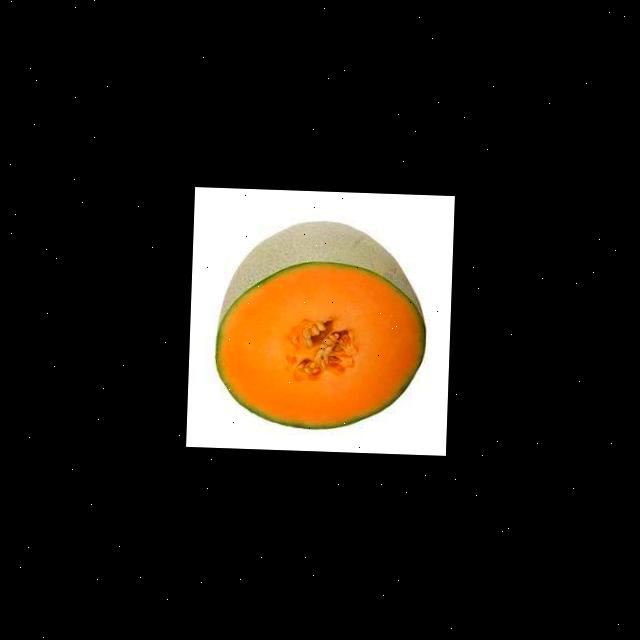Hami Melon: (212, 216, 429, 431)
